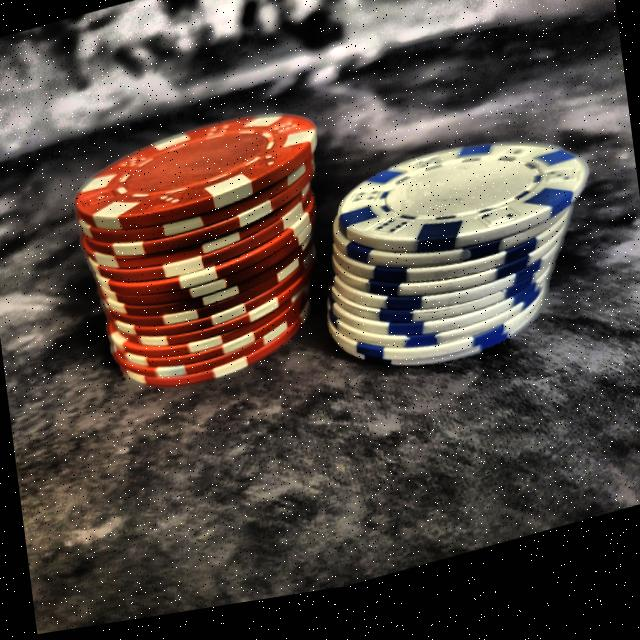Chip: (49, 71, 360, 416), (288, 99, 622, 412)
